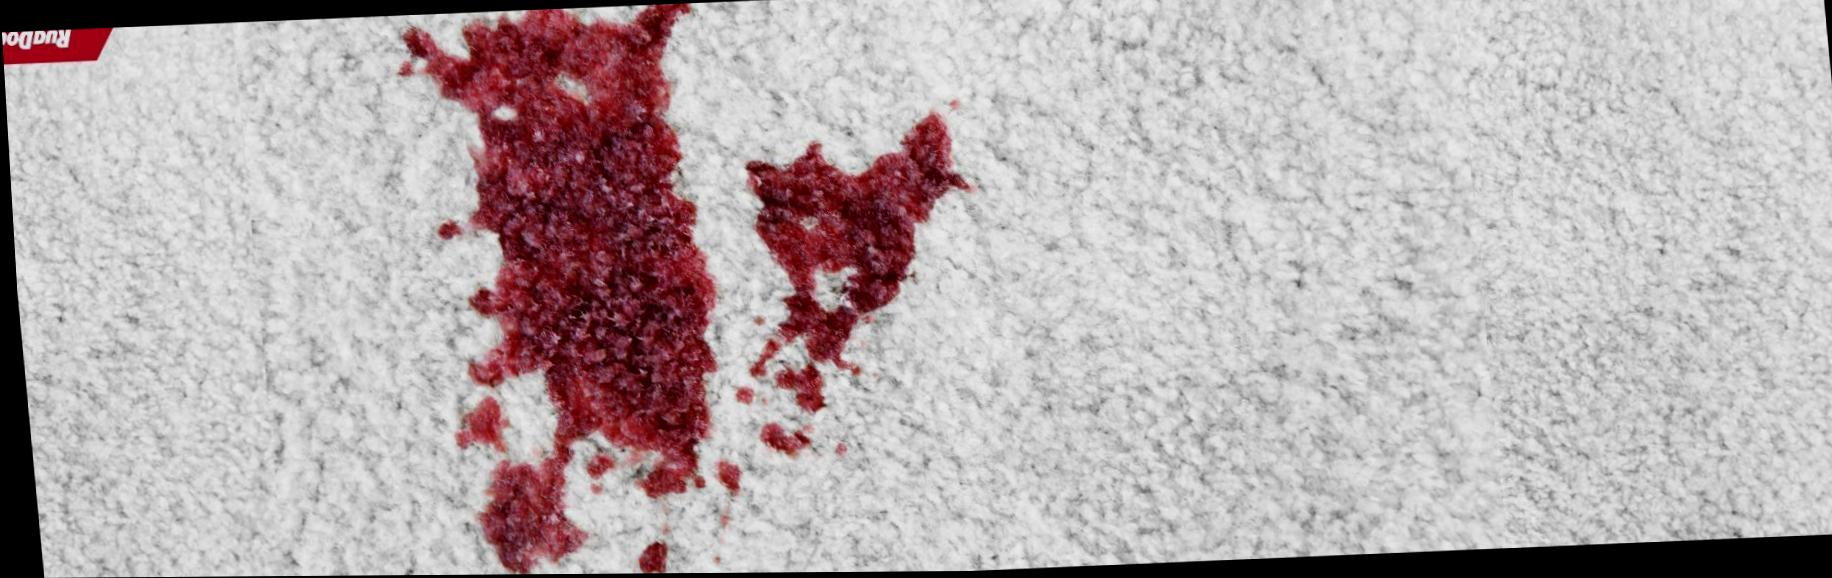Fire: (401, 4, 715, 576), (741, 112, 972, 416), (447, 397, 505, 454), (755, 424, 806, 459), (707, 461, 736, 500), (581, 453, 610, 482), (433, 220, 459, 242)
